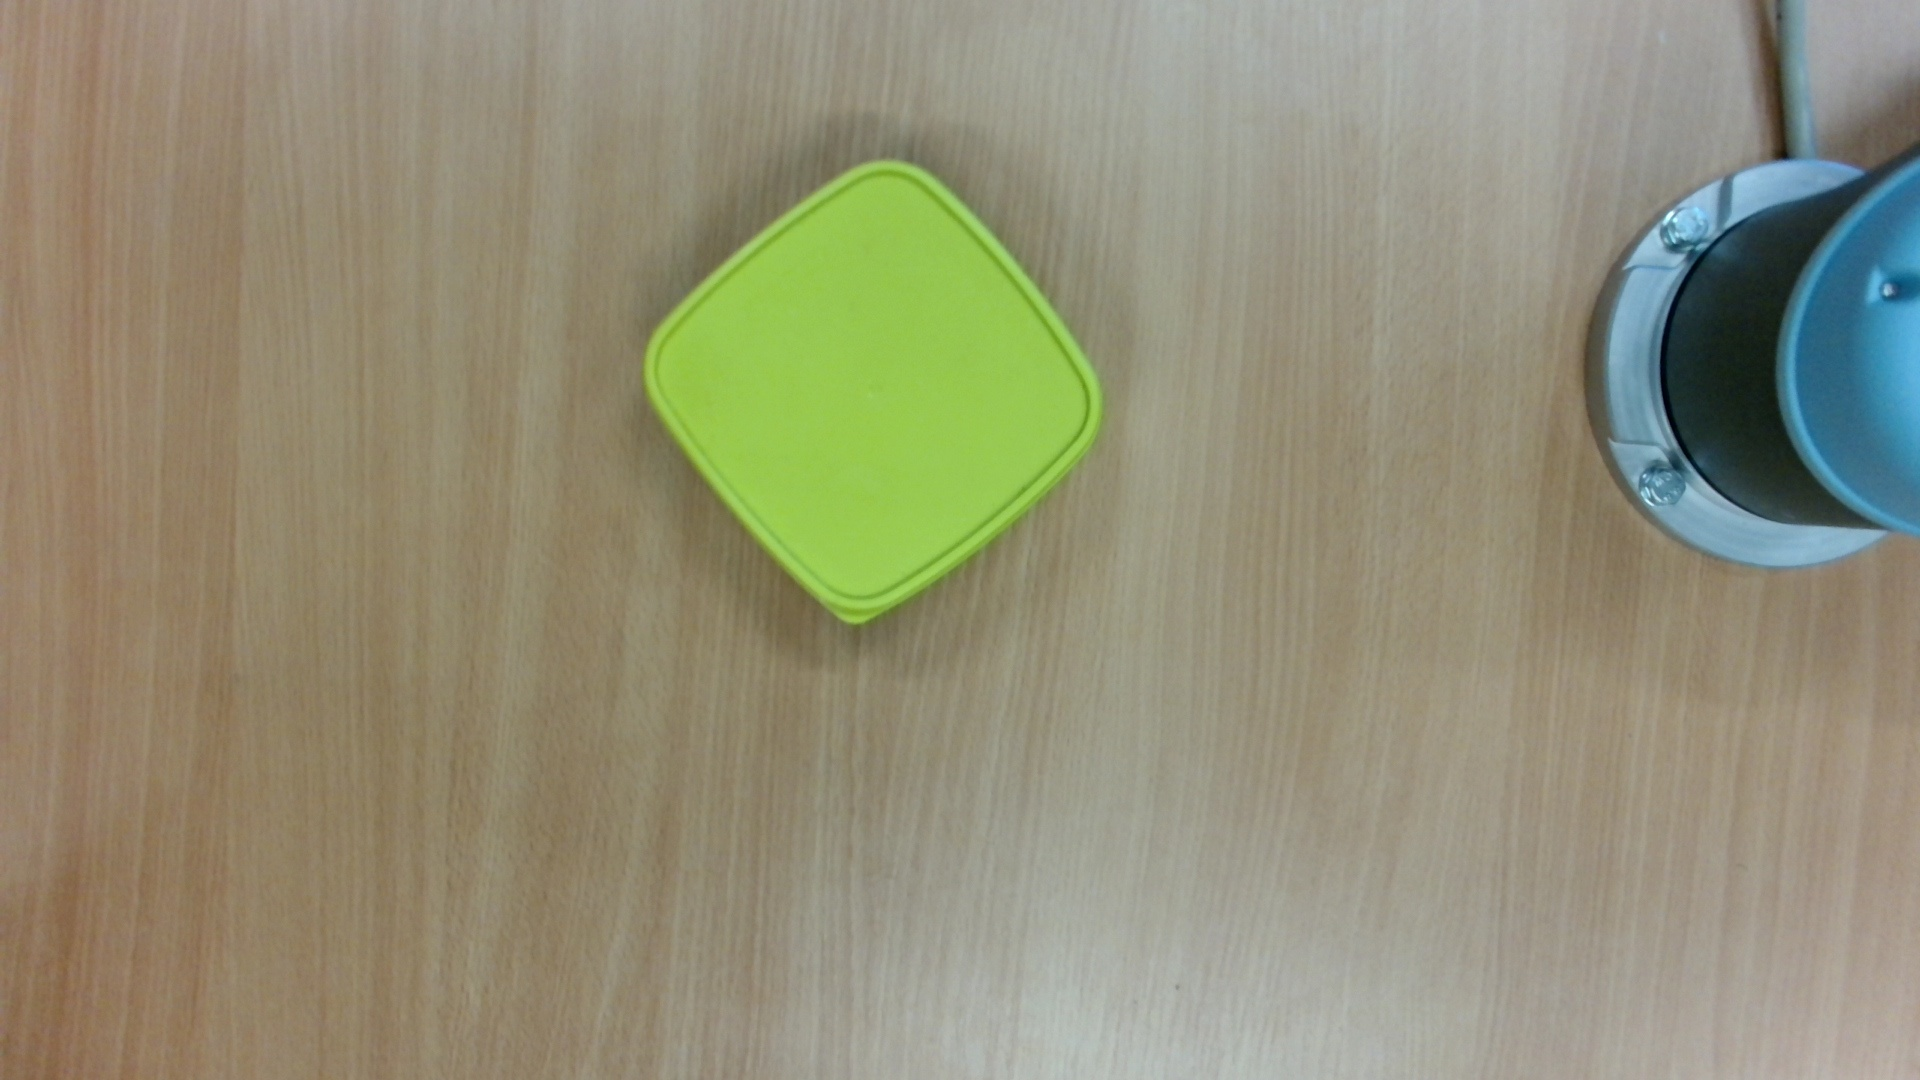Box: (636, 152, 1114, 640)
